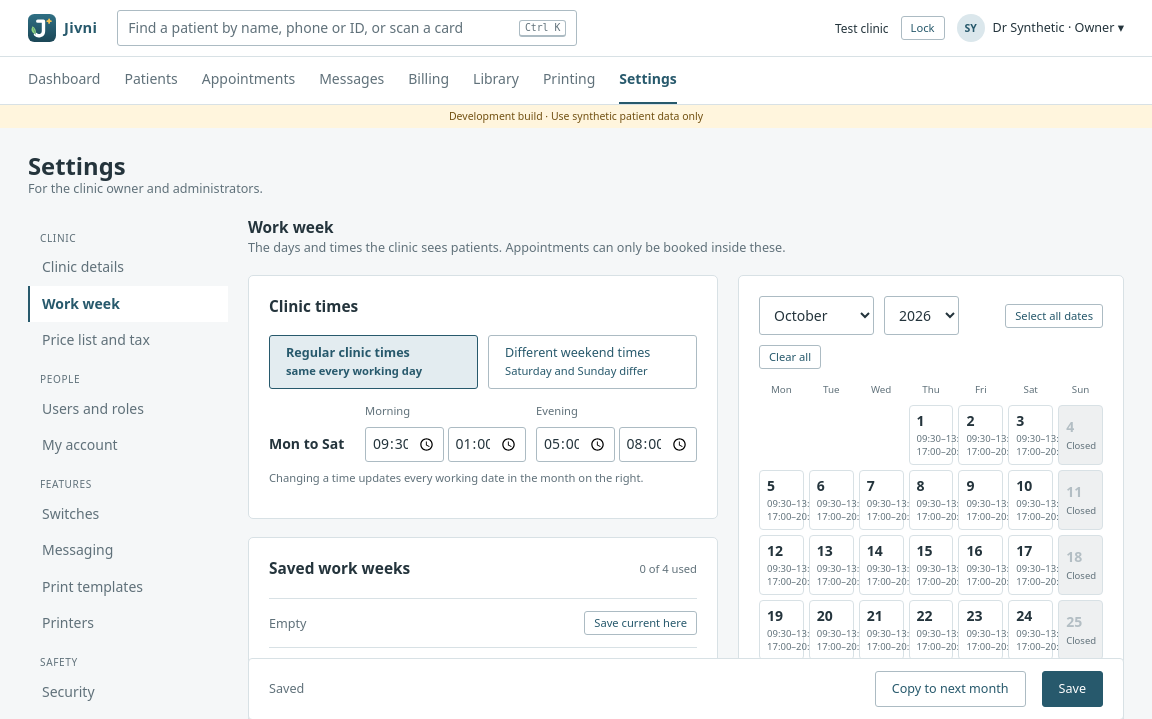
Test: work week › closes a tapped date and saves the month without it
expect the text "0 of 4 used" is shown: met, box [639,561,697,577]
Click the button "1 09:30–13:00 17:00–20:00" at (931,435), box [909,405,954,465]
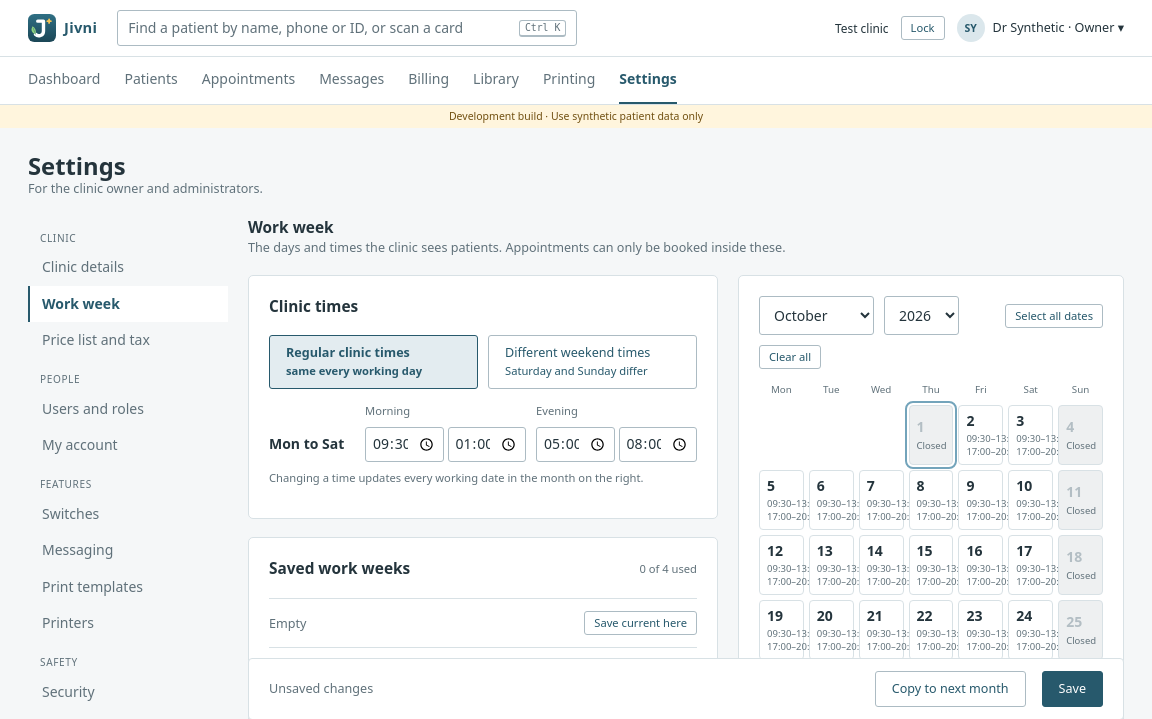
expect the text "Unsaved changes" is shown: met, box [269,680,373,698]
Click the button "Save" at (1072,689), box [1042,671,1103,707]
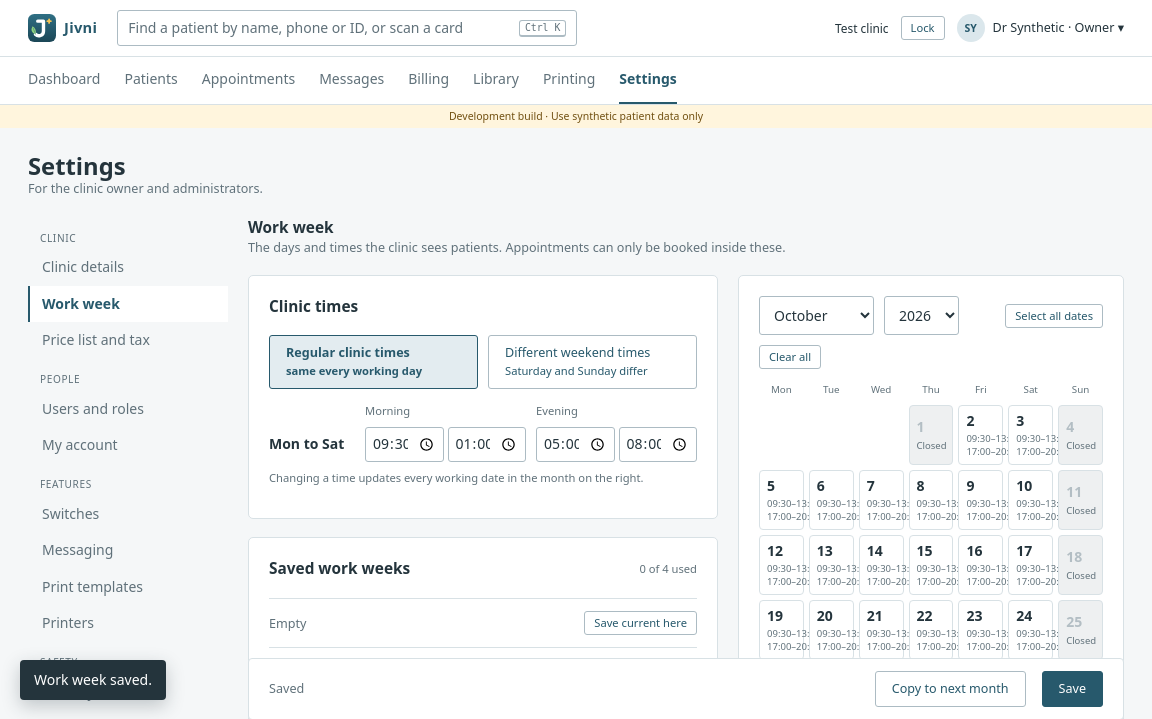
expect the text "Work week saved." is shown: met, box [34,670,152,690]
